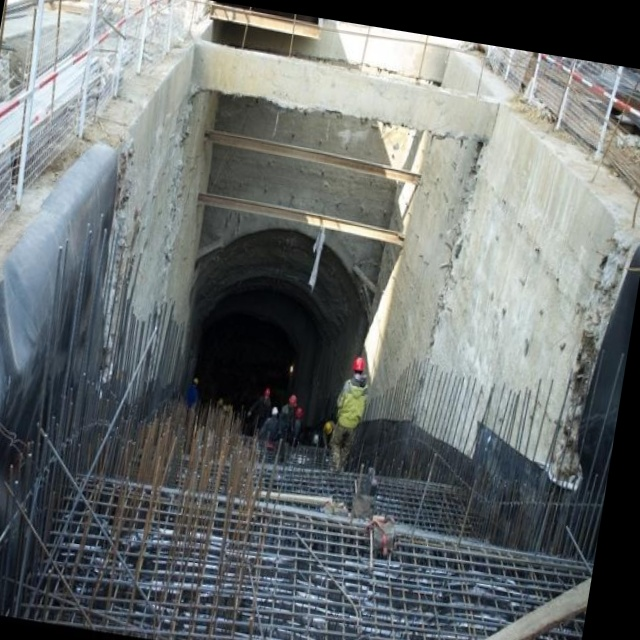Con_Casco: (351, 354, 368, 379)
